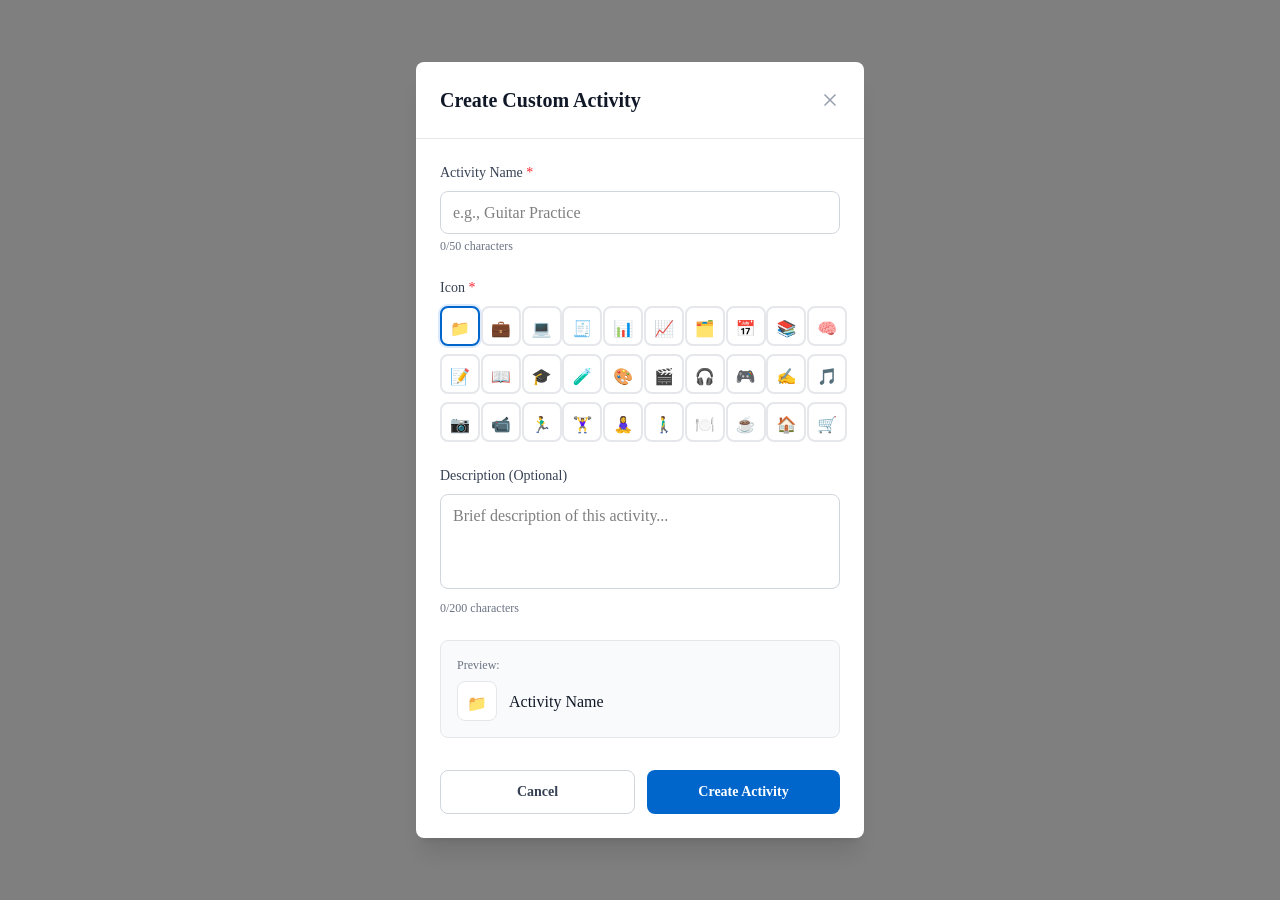
it: CreateCustomActivityModal › Form Validation › should prevent duplicate activity names
The width and height of the screenshot is (1280, 900).
Type "Guitar Practice" into the field labelled "Activity Name *" at (640, 212), box [440, 190, 840, 234]
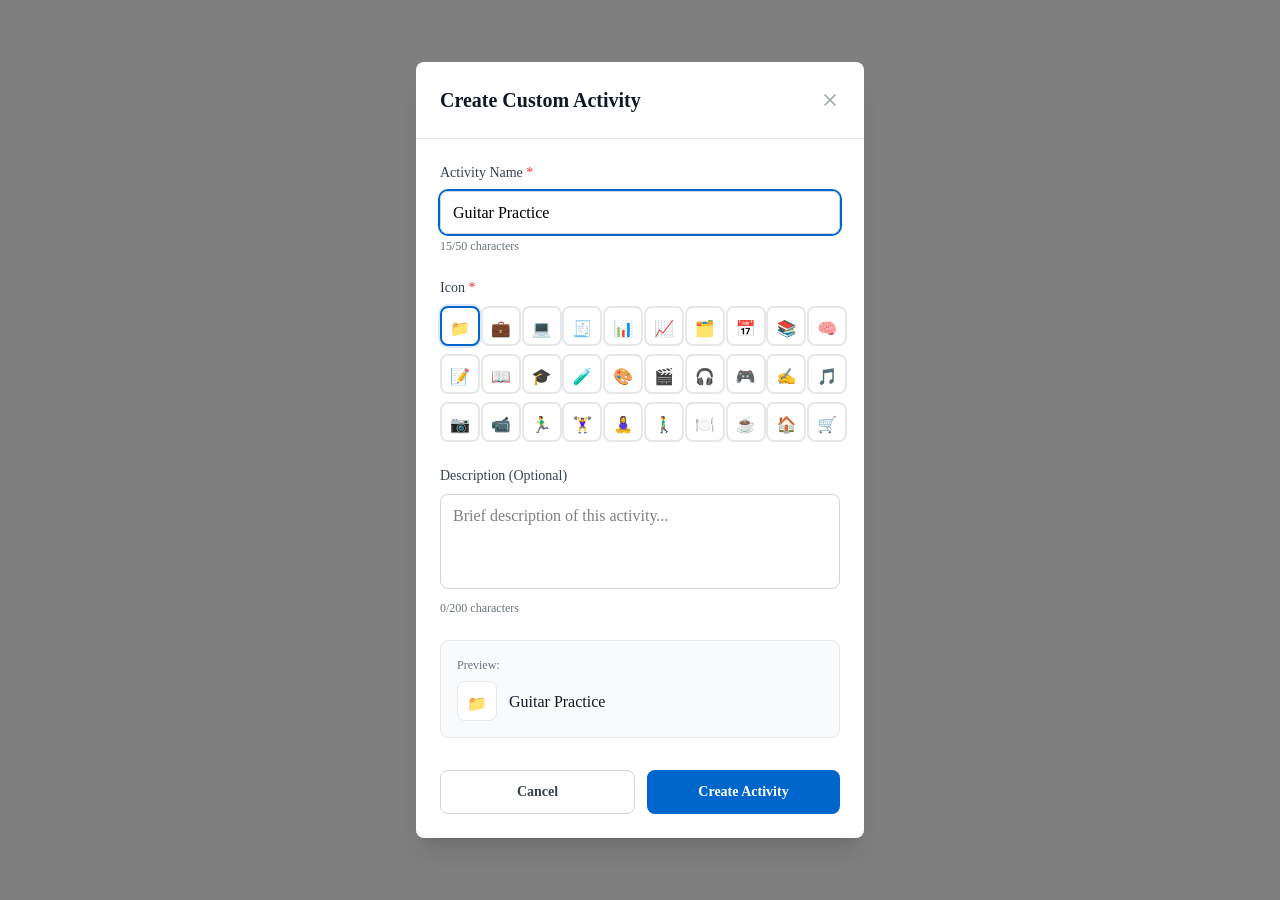
Click the button "Create Activity" at (744, 792), box [647, 770, 840, 814]
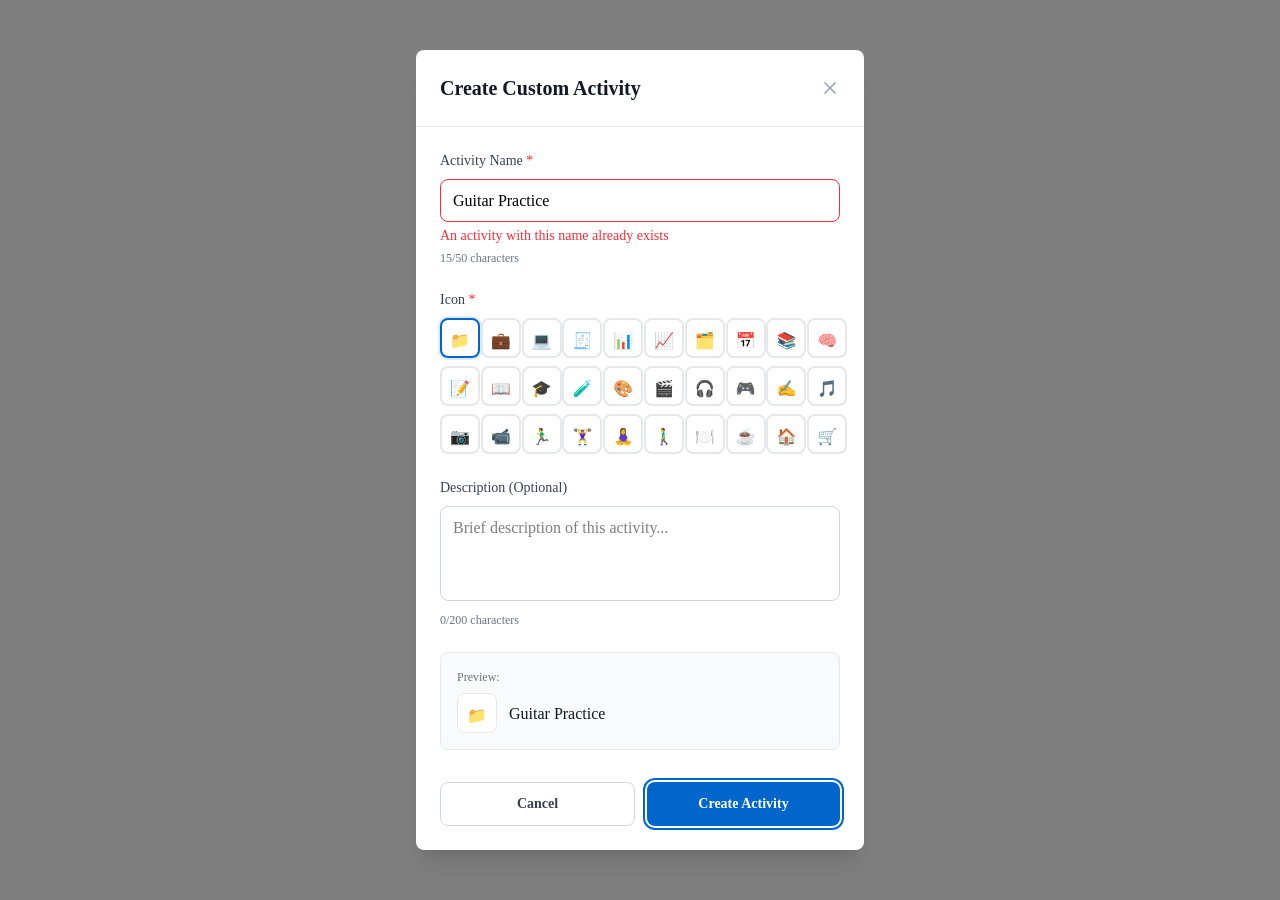
Expected: the text "An activity with this name already exists" is shown, [440, 228, 669, 243]
